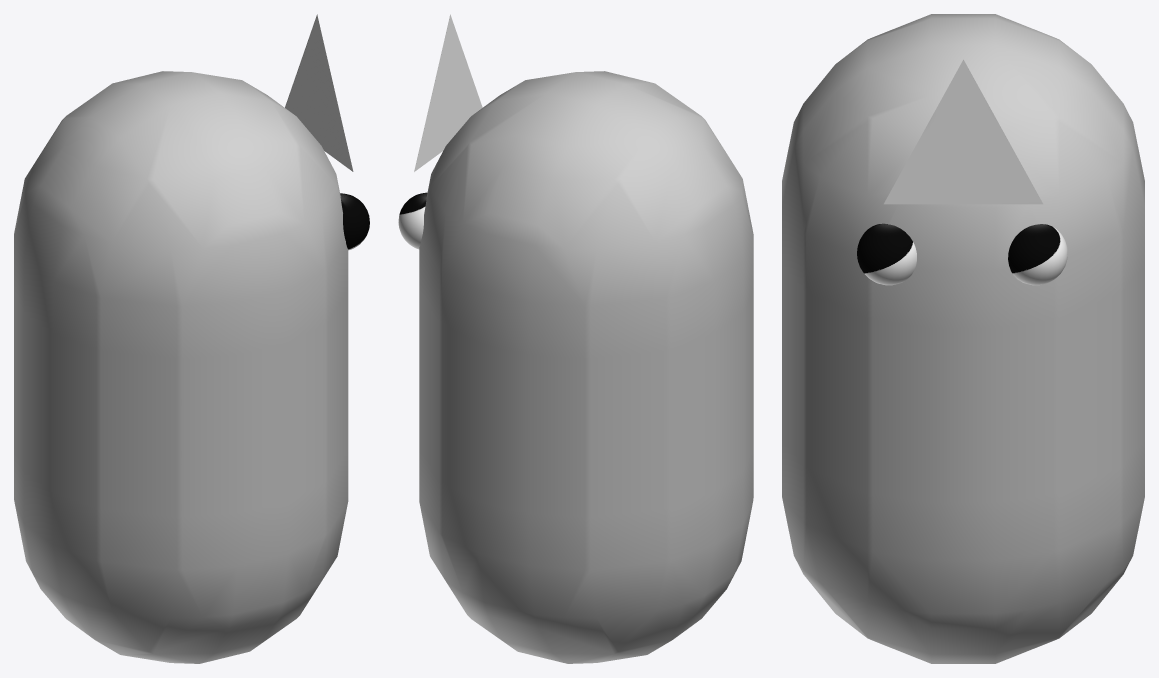
The model's file is enemy.obj.
The picture shows the model from 3 angles, left to right: view 1: azimuth 30°, elevation 25°; view 2: azimuth 150°, elevation 25°; view 3: azimuth 270°, elevation 25°; orthographic projection. The views are drawn at different scales.
Visible parts, largest first — view 1: メタボール, 平面; view 2: メタボール, 平面; view 3: メタボール, 平面.
Boxes of the visible parts, <box> form: メタボール: <box>14,71,348,663</box>; 平面: <box>285,14,369,250</box>; メタボール: <box>419,71,753,663</box>; 平面: <box>398,14,482,249</box>; メタボール: <box>782,14,1144,663</box>; 平面: <box>857,59,1067,285</box>.
Bounding box in the file's own units: 2.33 × 4.55 × 2.27.
